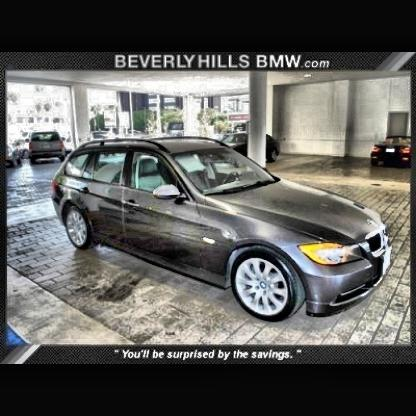BMW 3 Series Wagon 2012: (55, 137, 396, 325)
